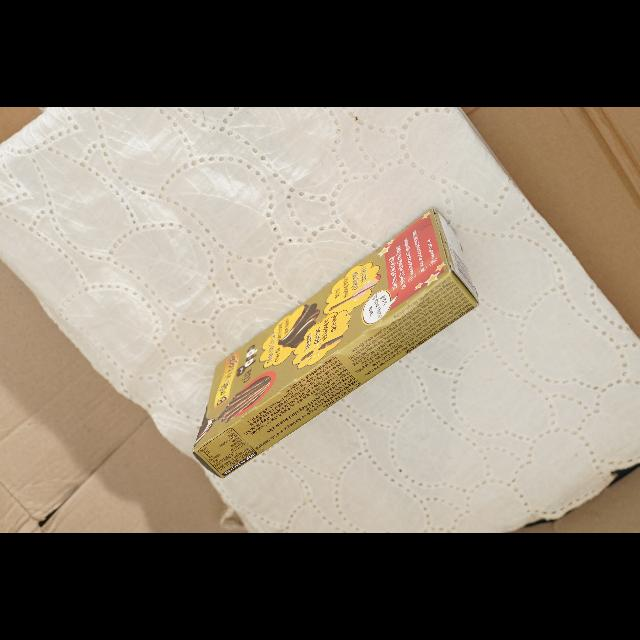banh_toppo_socola: (193, 209, 478, 477)
